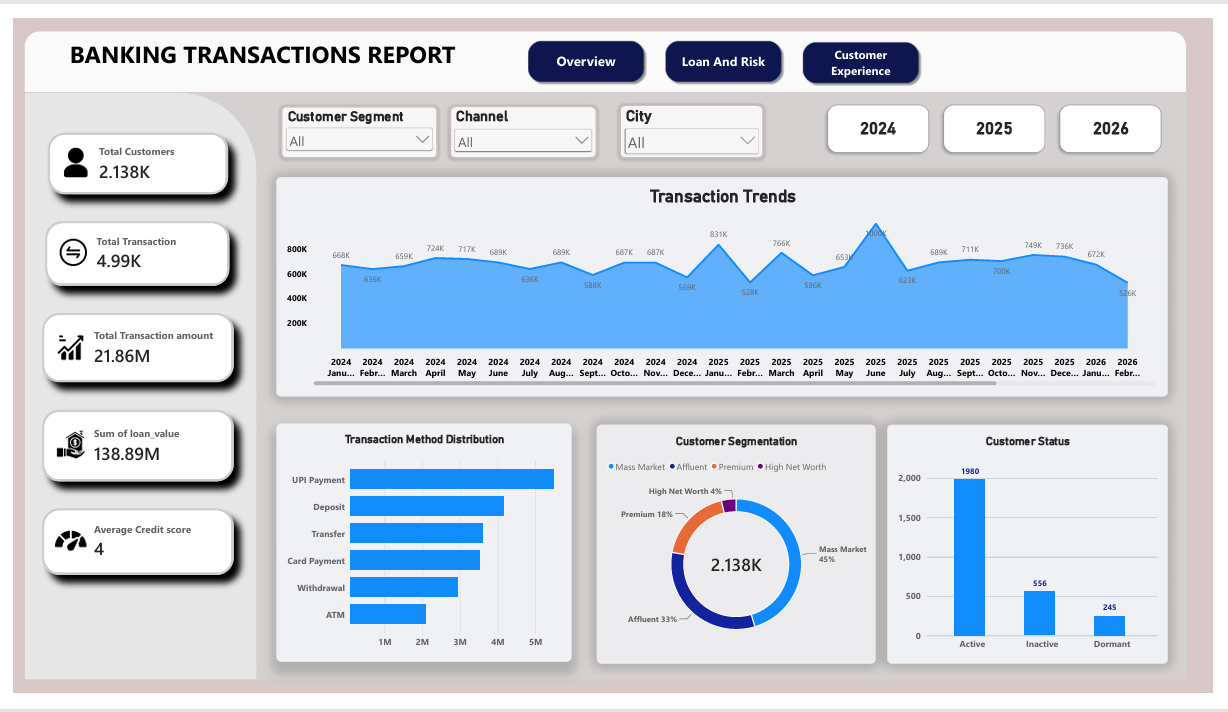

The dashboard page shown, as its layout file describes it:
{"tool":"powerbi","page":{"name":"Overview","canvas":[1920,1080],"ordinal":0},"visuals":[{"type":"shape","box":[17.5,117.5,1860,940],"z":0},{"type":"shape","box":[17.5,117.5,370,940],"z":1000},{"type":"shape","box":[16.7,20,1860,96.7],"z":2000},{"type":"textbox","box":[42.5,30,710,75],"z":3000},{"type":"lineChart","title":"Transaction Trends","fields":{"Category":["banking_analysis2 banking_data.transaction_date.Variation.Date Hierarchy.Year","banking_analysis2 banking_data.transaction_date.Variation.Date Hierarchy.Month"],"Y":["Sum(banking_analysis2 banking_data.transaction_amount)"]},"box":[420,252.5,1427.5,352.5],"z":4000},{"type":"donutChart","title":"Customer Segmentation","fields":{"Category":["banking_analysis2 banking_data.customer_segment"],"Y":["Count(banking_analysis2 banking_data.customer_id)"]},"box":[932.5,650,447.5,382.5],"z":5000},{"type":"clusteredBarChart","title":"Transaction Method Distribution","fields":{"Category":["banking_analysis2 banking_data.transaction_type"],"Y":["Sum(banking_analysis2 banking_data.transaction_amount)"]},"box":[420,647.5,472.5,382.5],"z":6000},{"type":"clusteredColumnChart","title":"Customer Status","fields":{"Category":["banking_analysis2 banking_data.customer_status"],"Y":["Count(banking_analysis2 banking_data.customer_id)"]},"box":[1397.5,650,450,382.5],"z":7000},{"type":"cardVisual","fields":{"Data":["Count(banking_analysis2 banking_data.customer_id)"]},"box":[54.3,181.9,288.2,99.2],"z":8000},{"type":"cardVisual","fields":{"Data":["Count(banking_analysis2 banking_data.transaction_id)"]},"box":[49.6,324.3,295.3,104],"z":9000},{"type":"cardVisual","fields":{"Data":["Sum(banking_analysis2 banking_data.transaction_amount)"]},"box":[44.9,471.3,307.1,111],"z":10000},{"type":"cardVisual","fields":{"Data":["Sum(banking_analysis2 vw_loan_analysis.loan_value)"]},"box":[44.9,625.5,307.1,115.8],"z":11000},{"type":"cardVisual","fields":{"Data":["CountNonNull(banking_analysis2 vw_customer_segment.avg_credit_score)"]},"box":[44.9,784.4,307.1,106.3],"z":12000},{"type":"advancedSlicerVisual","fields":{"Values":["banking_analysis2 banking_data.transaction_date.Variation.Date Hierarchy.Year"]},"box":[1295,130,552.5,92.5],"z":13000},{"type":"slicer","fields":{"Values":["banking_analysis2 banking_data.customer_segment"]},"box":[427.5,140,250,82.5],"z":14000},{"type":"slicer","fields":{"Values":["banking_analysis2 banking_data.channel"]},"box":[697.5,140,235,82.5],"z":15000},{"type":"slicer","fields":{"Values":["banking_analysis2 banking_data.city"]},"box":[970,137.5,230,85],"z":16000},{"type":"actionButton","title":"Overview","box":[816,28,200,80],"z":17000},{"type":"actionButton","box":[1036,28,200,80],"z":18000},{"type":"actionButton","box":[1256,30,200,80],"z":19000}]}

Visuals, with their boxes in screenshot pixels (x1, y1, x2, y2), scaled from the page's 1920x1080 canvas onto the 1228x712 screenshot:
shape: [x1=11, y1=77, x2=1201, y2=697]
shape: [x1=11, y1=77, x2=248, y2=697]
shape: [x1=11, y1=13, x2=1200, y2=77]
textbox: [x1=27, y1=20, x2=481, y2=69]
"Transaction Trends" lineChart: [x1=269, y1=166, x2=1182, y2=399]
"Customer Segmentation" donutChart: [x1=596, y1=429, x2=883, y2=681]
"Transaction Method Distribution" clusteredBarChart: [x1=269, y1=427, x2=571, y2=679]
"Customer Status" clusteredColumnChart: [x1=894, y1=429, x2=1182, y2=681]
cardVisual - Count(banking_analysis2 banking_data.customer_id): [x1=35, y1=120, x2=219, y2=185]
cardVisual - Count(banking_analysis2 banking_data.transaction_id): [x1=32, y1=214, x2=221, y2=282]
cardVisual - Sum(banking_analysis2 banking_data.transaction_amount): [x1=29, y1=311, x2=225, y2=384]
cardVisual - Sum(banking_analysis2 vw_loan_analysis.loan_value): [x1=29, y1=412, x2=225, y2=489]
cardVisual - CountNonNull(banking_analysis2 vw_customer_segment.avg_credit_score): [x1=29, y1=517, x2=225, y2=587]
advancedSlicerVisual - banking_analysis2 banking_data.transaction_date.Variation.Date Hierarchy.Year: [x1=828, y1=86, x2=1182, y2=147]
slicer - banking_analysis2 banking_data.customer_segment: [x1=273, y1=92, x2=433, y2=147]
slicer - banking_analysis2 banking_data.channel: [x1=446, y1=92, x2=596, y2=147]
slicer - banking_analysis2 banking_data.city: [x1=620, y1=91, x2=767, y2=147]
"Overview" actionButton: [x1=522, y1=18, x2=650, y2=71]
actionButton: [x1=663, y1=18, x2=791, y2=71]
actionButton: [x1=803, y1=20, x2=931, y2=73]
